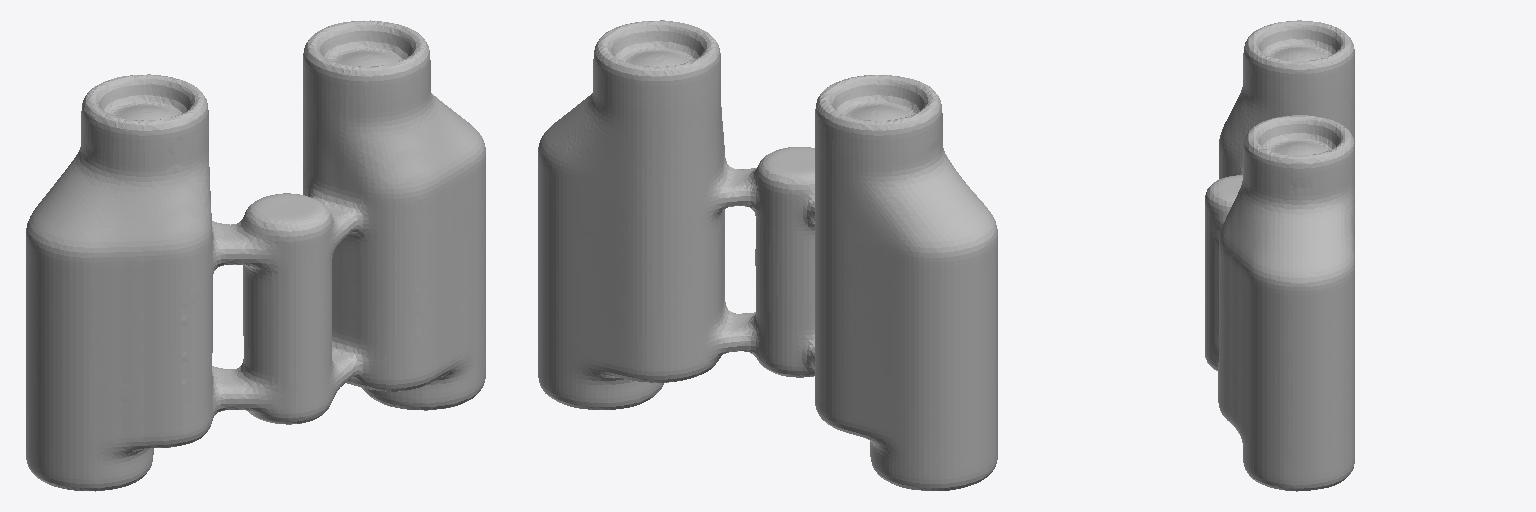
robot.urdf — root:
<robot name="root">
  <link name="link_001">
    <visual>
      <origin xyz="0 0 0" rpy="0 0 0"/>
      <geometry>
        <mesh filename="binoculars.obj" scale="1.2500E+00 1.2500E+00 1.2500E+00"/>
      </geometry>
      <material name="">
        <color rgba="7.50E-01 7.50E-01 7.50E-01 1"/>
      </material>
    </visual>
    <collision>
      <origin xyz="0 0 0" rpy="0 0 0"/>
      <geometry>
        <mesh filename="binoculars.obj" scale="1.2500E+00 1.2500E+00 1.2500E+00"/>
      </geometry>
    </collision>
    <inertial>
      <mass value="0.16"/> <!-- 质量：0.1kg -->
    </inertial>
  </link>
</robot>

--- What the picture shows (computed from the rendered views, not written in the file) ---
Views: 3 orthographic renders of the robot side by side, from view 1: azimuth 30°, elevation 25°; view 2: azimuth 150°, elevation 25°; view 3: azimuth 270°, elevation 25°.
Model root with 1 links and 0 joints (none), rooted at link_001, posed all joints at 0.
Visible links, largest first — view 1: link_001; view 2: link_001; view 3: link_001.
Link boxes in pixels (bbox=[...]): link_001: bbox=[26, 20, 485, 491]; link_001: bbox=[538, 20, 997, 490]; link_001: bbox=[1205, 20, 1354, 491].
Size in the robot's own frame: 0.177 by 0.0597 by 0.1362 metres.
Meshes: 1 distinct files referenced, 1 mesh visuals loaded (1 OBJ).
